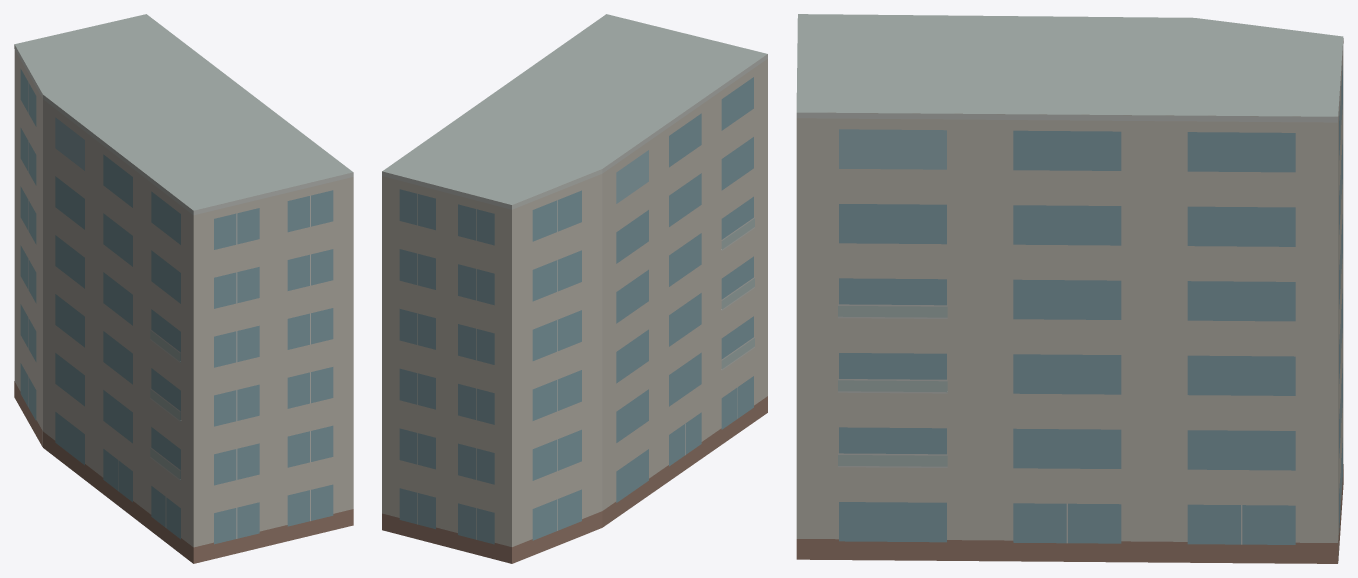
File: survey-upis-32819590.glb
The picture shows the model from 3 angles, left to right: view 1: azimuth 30°, elevation 25°; view 2: azimuth 150°, elevation 25°; view 3: azimuth 270°, elevation 25°; orthographic projection. The views are drawn at different scales.
Visible parts, largest first — view 1: survey-upis-32819590.tmp; view 2: survey-upis-32819590.tmp; view 3: survey-upis-32819590.tmp.
Part boxes in pixels (left/top/right/bottom): survey-upis-32819590.tmp: left=14, top=14, right=353, bottom=563; survey-upis-32819590.tmp: left=382, top=14, right=767, bottom=563; survey-upis-32819590.tmp: left=796, top=14, right=1343, bottom=563.
Size of the model in its own units: 9.21 by 18.65 by 20.68.
